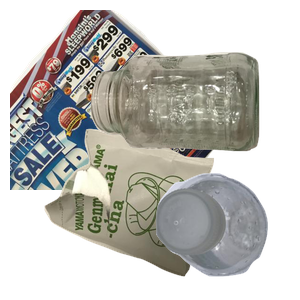glass: (88, 50, 300, 194)
paper: (10, 10, 240, 190)
plastic: (153, 170, 300, 300)
trash: (42, 126, 249, 300)
